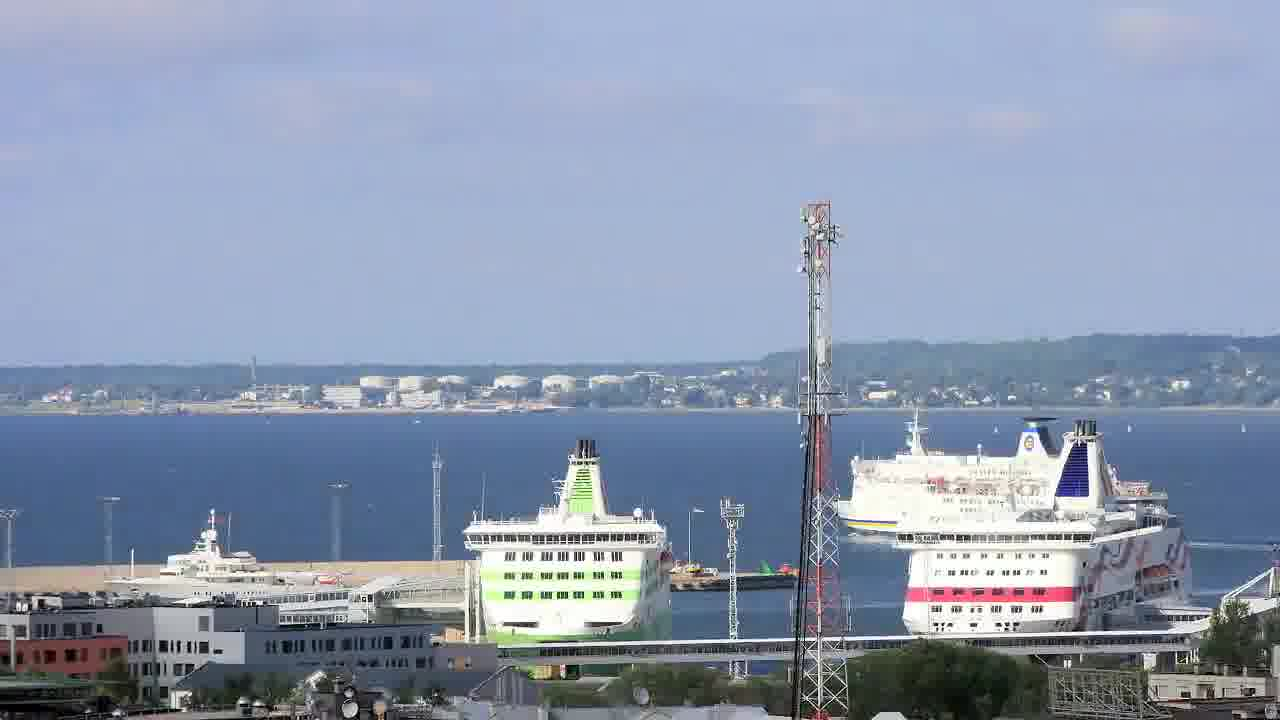type-3: (868, 415, 1225, 638), (436, 434, 694, 670), (820, 419, 1204, 572), (92, 503, 373, 620)
